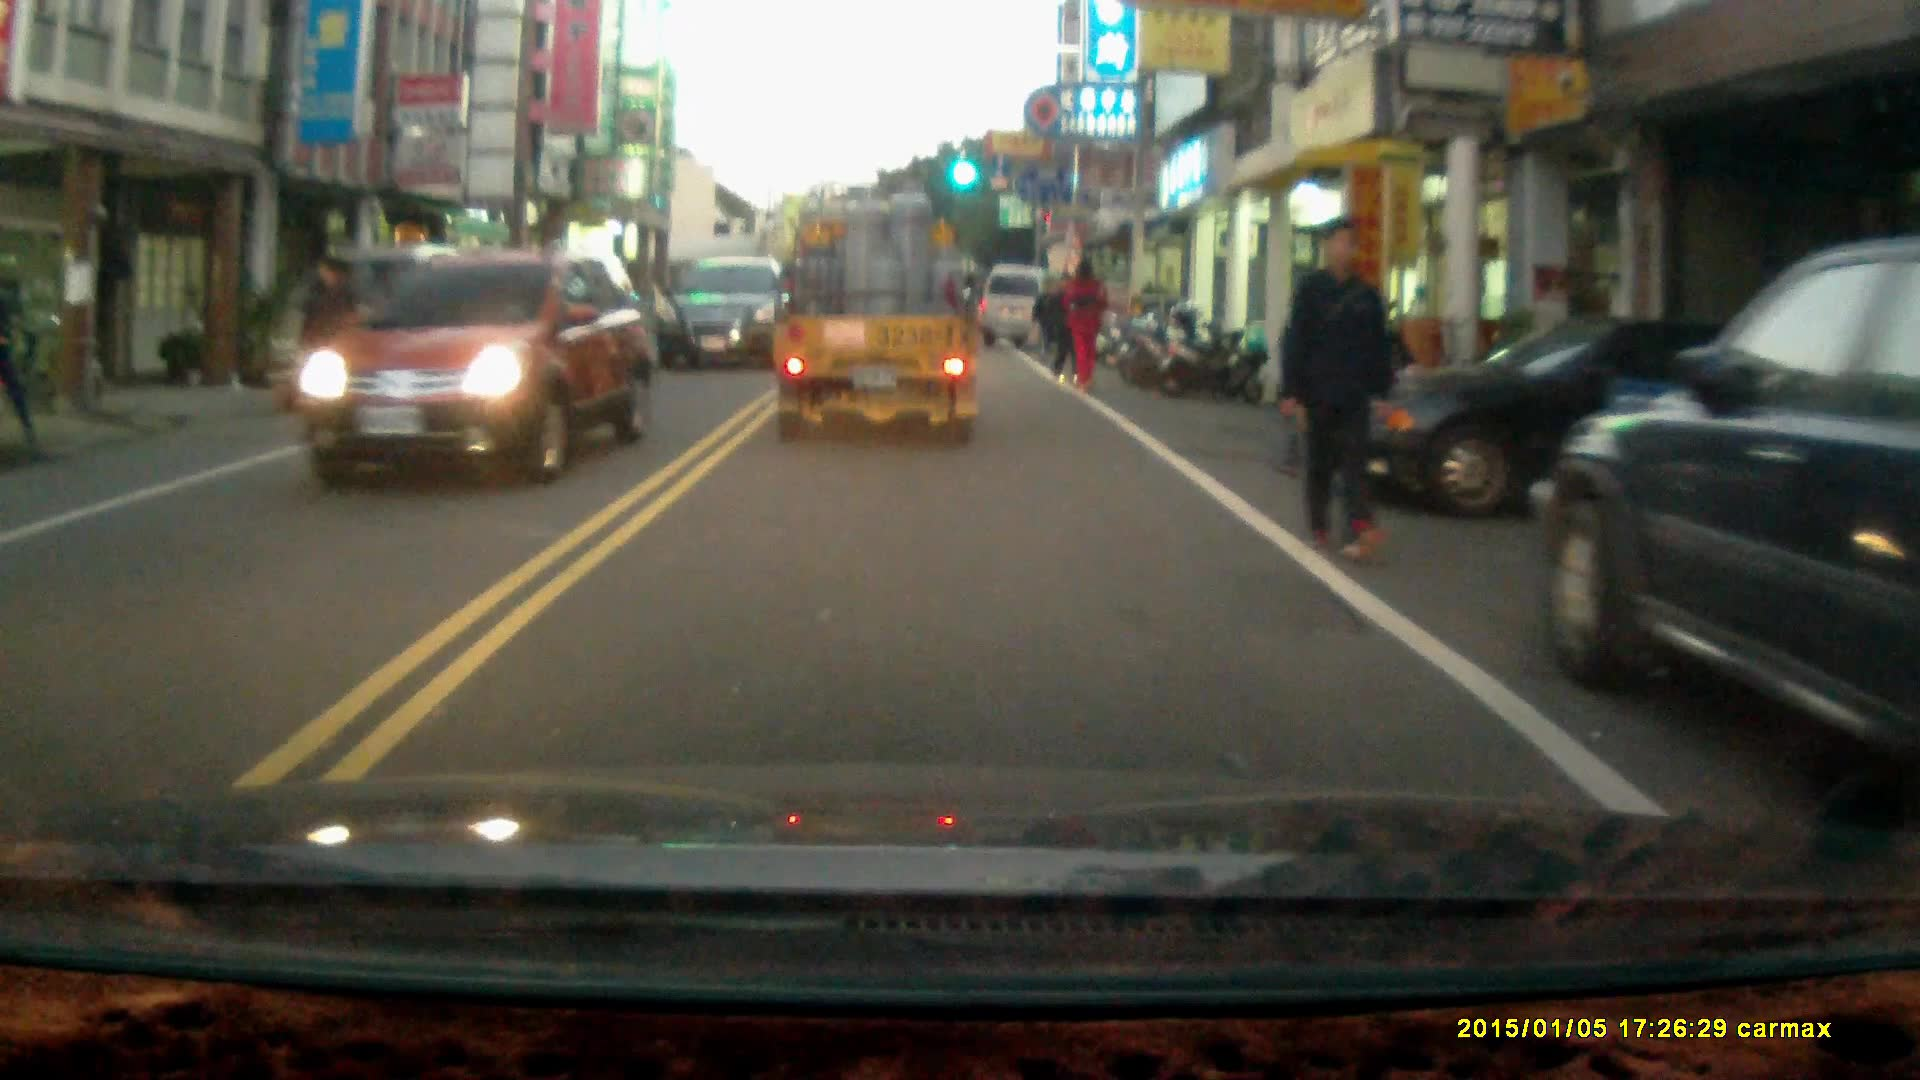pedestrian: (1278, 218, 1399, 568), (295, 258, 358, 419), (1065, 254, 1106, 391), (1038, 275, 1063, 360)
vehicle: (1537, 239, 1920, 823), (1346, 316, 1844, 532), (285, 252, 657, 492), (773, 204, 984, 478), (661, 260, 789, 379), (984, 270, 1064, 358)
